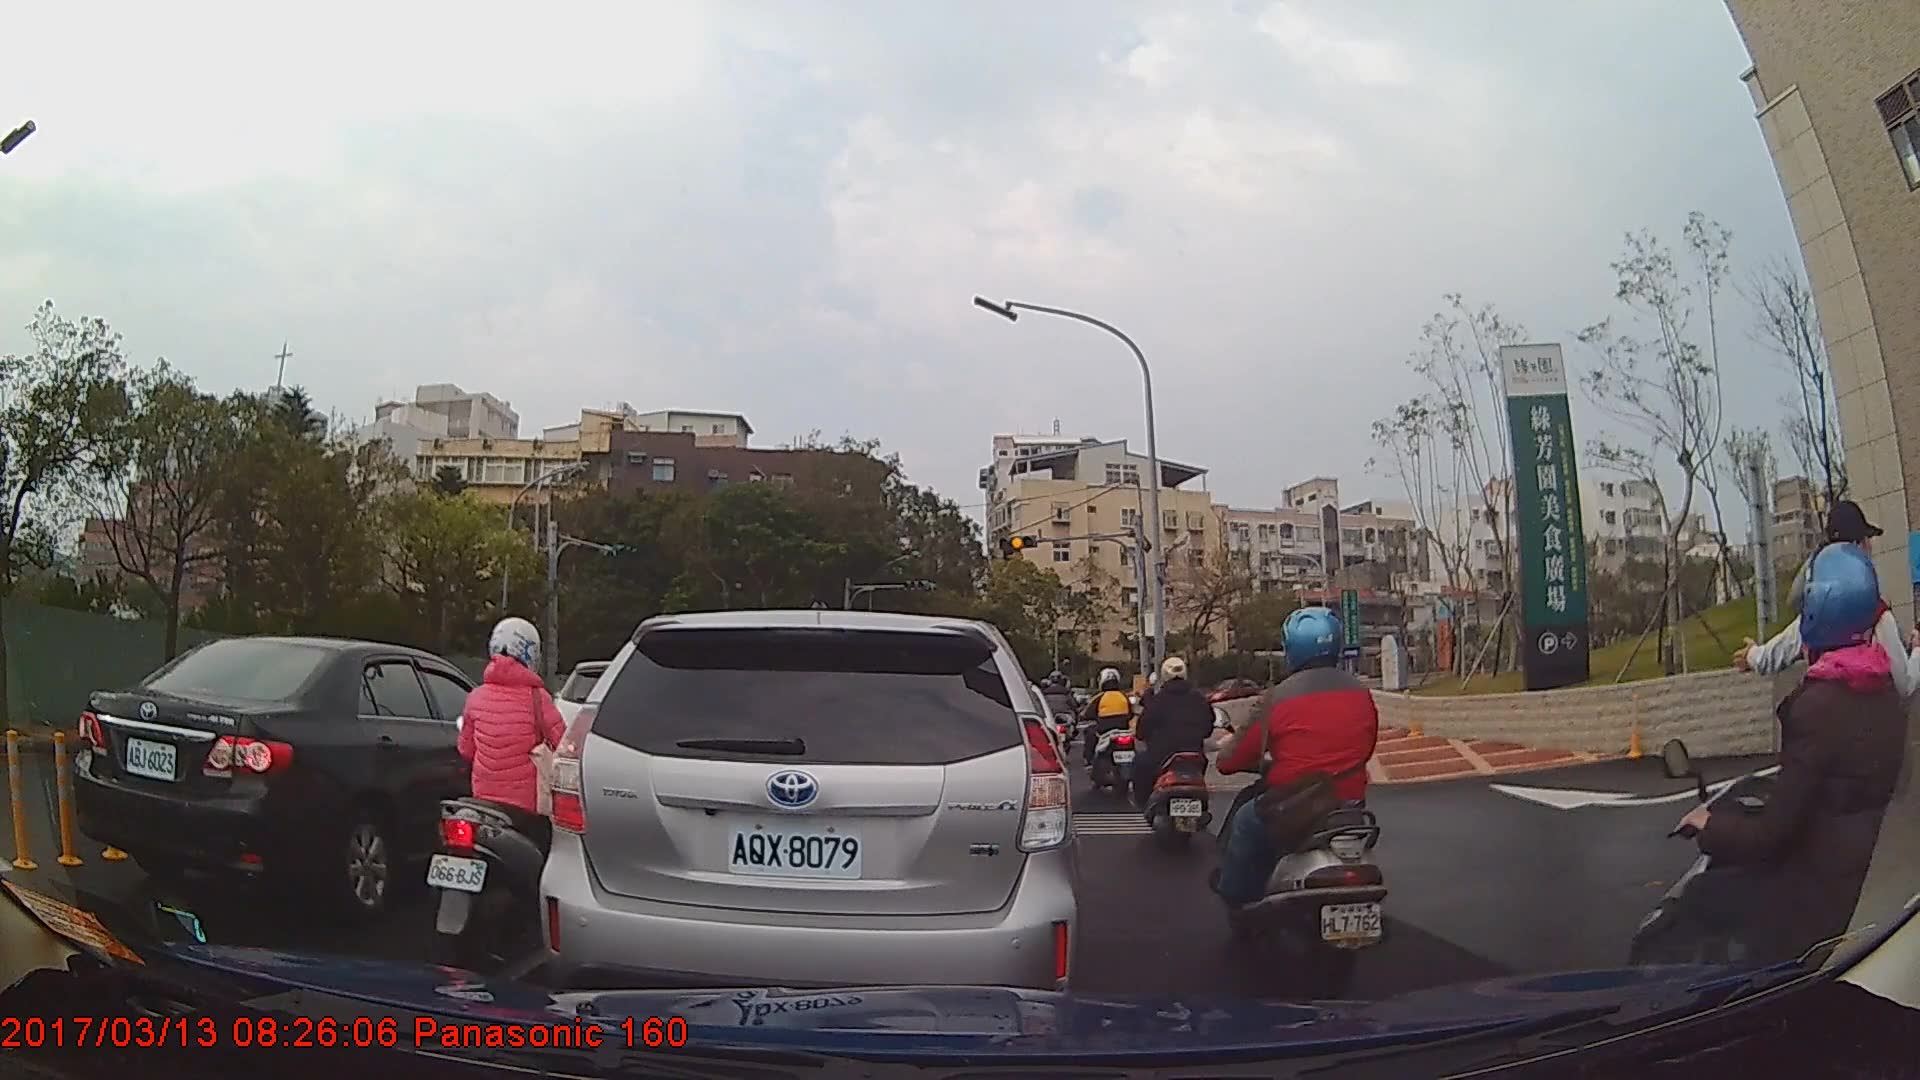rider: (1627, 541, 1920, 1070), (1211, 607, 1395, 983), (425, 614, 603, 960), (1135, 652, 1213, 851), (1085, 667, 1144, 801), (1039, 671, 1078, 761)
vehicle: (540, 610, 1078, 1015), (73, 634, 551, 910), (1205, 674, 1263, 711)
